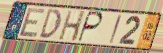2: (117, 15, 142, 47)
D: (38, 8, 63, 40)
E: (18, 7, 47, 38)
H: (57, 10, 87, 43)
I: (108, 14, 123, 46)
P: (76, 10, 104, 44)
